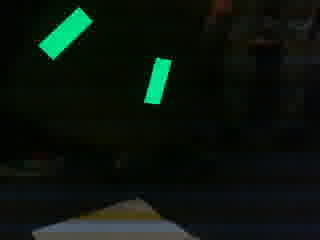target: (35, 6, 182, 105)
